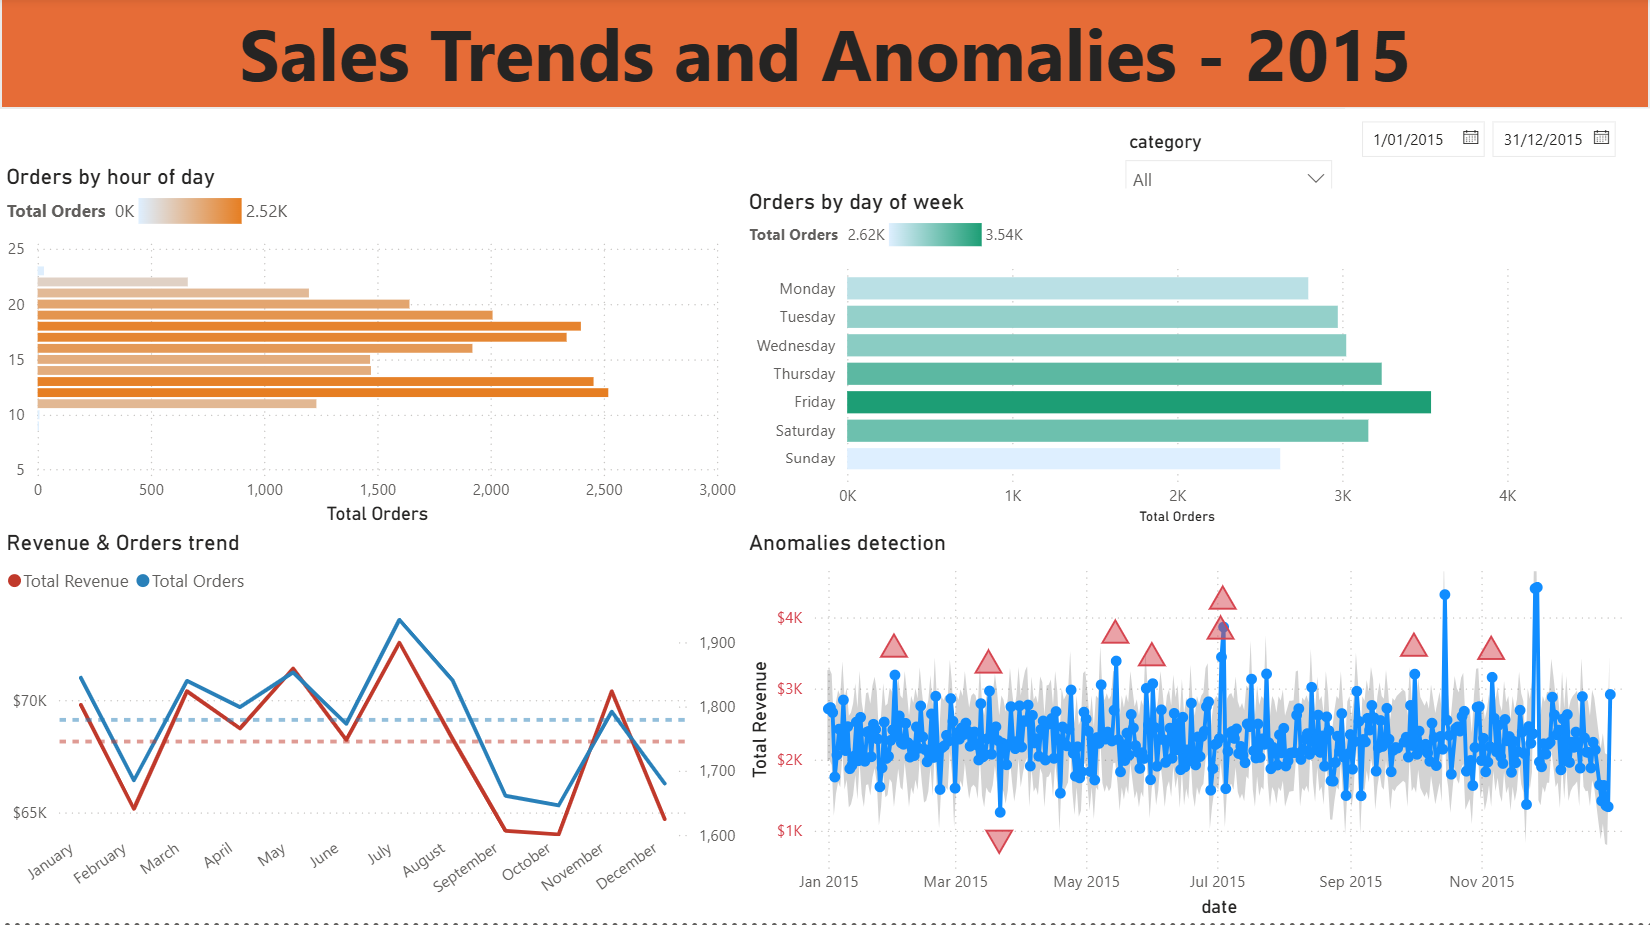

What the dashboard file says about the page in this screenshot:
{"tool":"powerbi","page":{"name":"Sales Trends","canvas":[1280,720],"ordinal":1},"visuals":[{"type":"textbox","box":[0,0,1280.7,87.1],"z":0},{"type":"slicer","fields":{"Values":["dim_pizza.category"]},"box":[863,98.9,180.4,64],"z":1000},{"type":"slicer","fields":{"Values":["dim_date.date"]},"box":[1043.4,87.3,236.6,64],"z":2000},{"type":"lineChart","title":"Revenue & Orders trend","fields":{"Category":["dim_date.date.Variation.Date Hierarchy.Year","dim_date.date.Variation.Date Hierarchy.Quarter","dim_date.date.Variation.Date Hierarchy.Month","dim_date.date.Variation.Date Hierarchy.Day"],"Y":["Measure.Total Revenue"],"Y2":["Measure.Total Orders"]},"box":[0,415,576,304.5],"z":3000},{"type":"clusteredBarChart","title":"Orders by day of week","fields":{"Category":["dim_date.Day Name"],"Y":["Measure.Total Orders"]},"box":[576,149.3,605.1,265.7],"z":4000},{"type":"clusteredBarChart","title":"Orders by hour of day","fields":{"Y":["Measure.Total Orders"],"Category":["Fact_order.Hour"]},"box":[0,129.9,576,285.1],"z":5000},{"type":"lineChart","title":"Anomalies detection","fields":{"Category":["dim_date.date"],"Y":["Measure.Total Revenue"]},"box":[576,415,704,304.5],"z":6000}]}

Visuals, with their boxes in screenshot pixels (x1, y1, x2, y2), scaled from the page's 1280x720 canvas onto the 1650x925 screenshot:
textbox: x1=0, y1=0, x2=1649, y2=112
slicer - dim_pizza.category: x1=1112, y1=127, x2=1345, y2=209
slicer - dim_date.date: x1=1345, y1=112, x2=1649, y2=194
"Revenue & Orders trend" lineChart: x1=0, y1=533, x2=742, y2=924
"Orders by day of week" clusteredBarChart: x1=742, y1=192, x2=1523, y2=533
"Orders by hour of day" clusteredBarChart: x1=0, y1=167, x2=742, y2=533
"Anomalies detection" lineChart: x1=742, y1=533, x2=1649, y2=924
